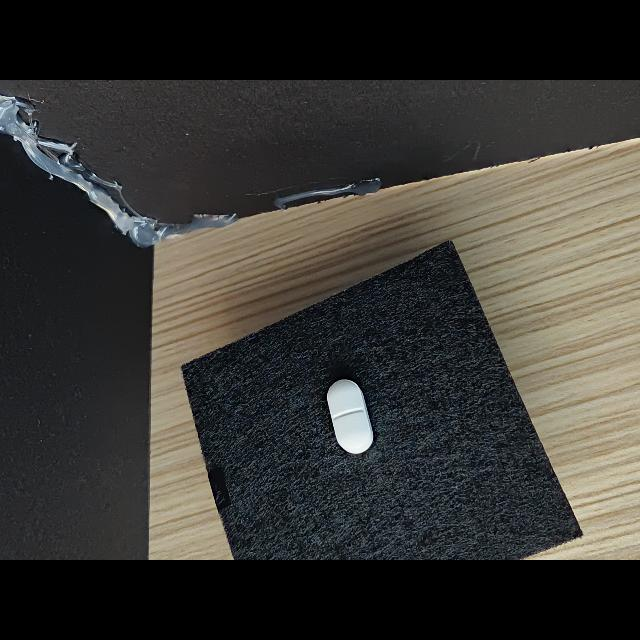Intact Pill: (327, 379, 373, 454)
